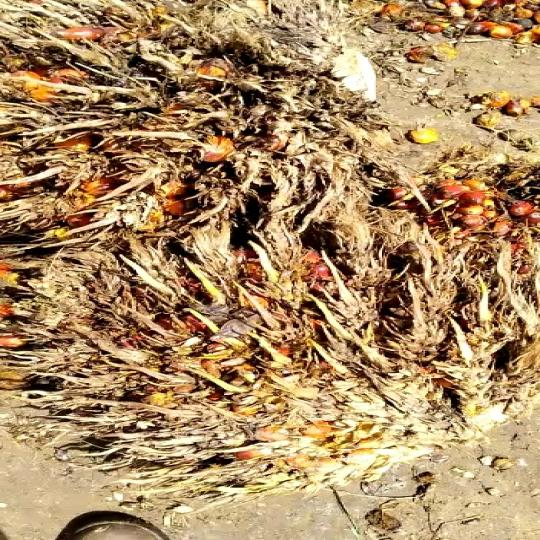terlalu masak: (0, 246, 540, 500), (0, 4, 362, 242)
